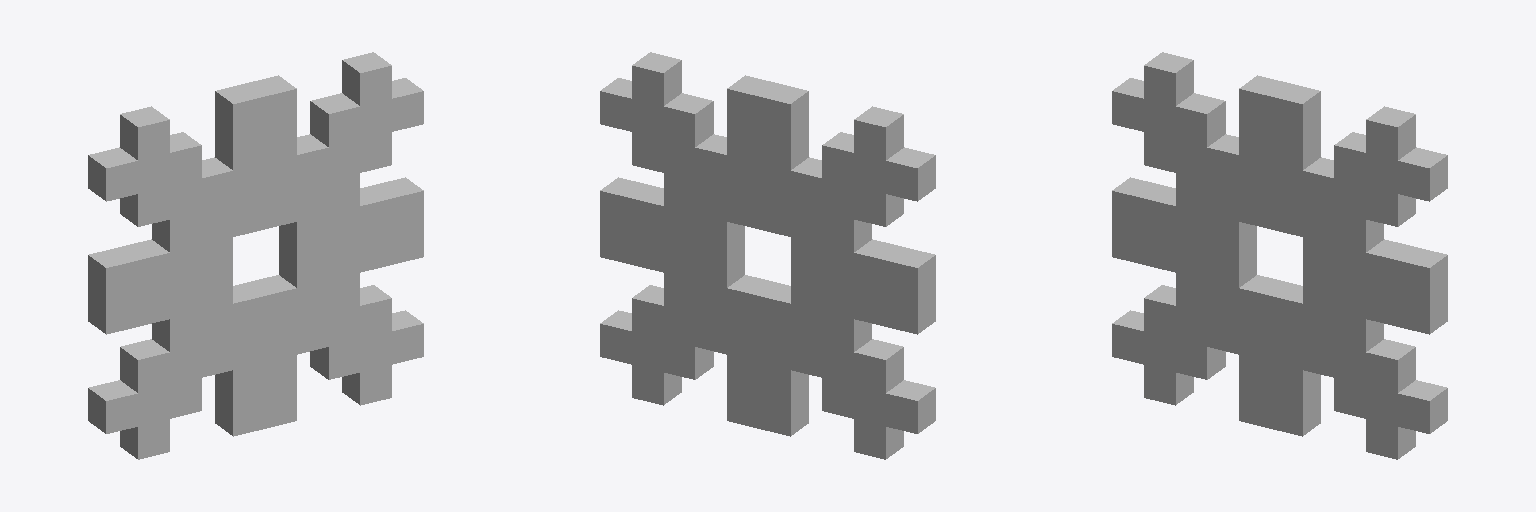
The model's file is gear.obj.
3 views of the same model, side by side, from view 1: azimuth 30°, elevation 25°; view 2: azimuth 150°, elevation 25°; view 3: azimuth 330°, elevation 25° (orthographic).
Parts seen in each view (by area): view 1: gear; view 2: gear; view 3: gear.
Boxes of the visible parts, box(x1,y1,x2,y2) form: gear: box(88, 52, 423, 459); gear: box(600, 52, 935, 459); gear: box(1112, 52, 1447, 459).
Bounding box in the file's own units: 10 × 10 × 1.